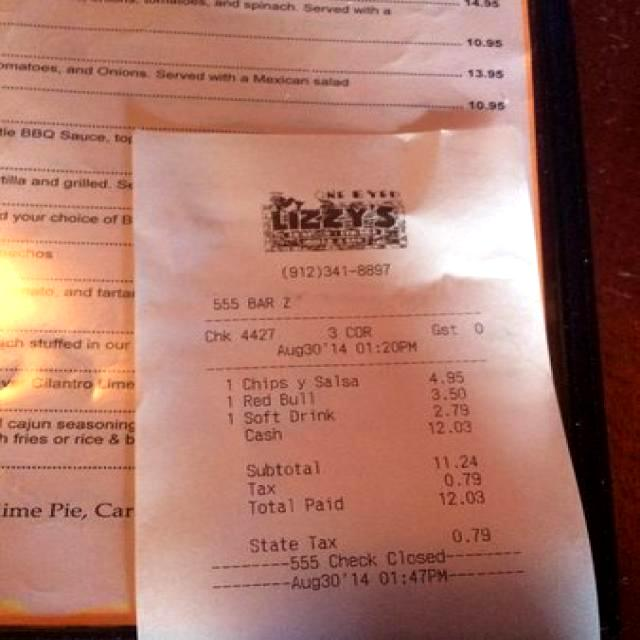Paper: (130, 124, 602, 640)
